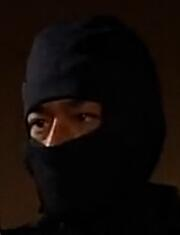WRONG: (20, 97, 117, 194)
